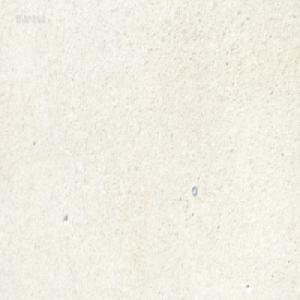Washer: (191, 185, 197, 195)
